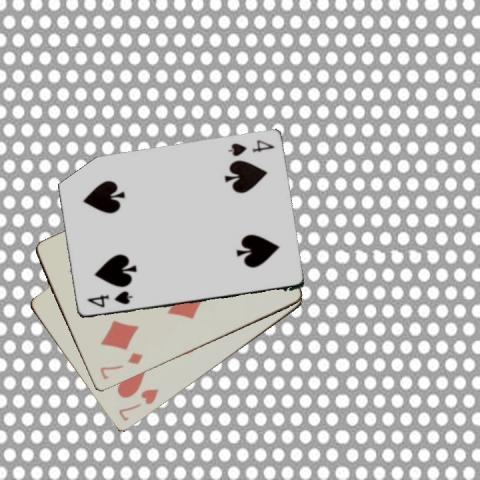4s: (83, 289, 134, 310), (226, 137, 276, 158)
7d: (96, 350, 144, 381)
7h: (115, 386, 160, 423)
